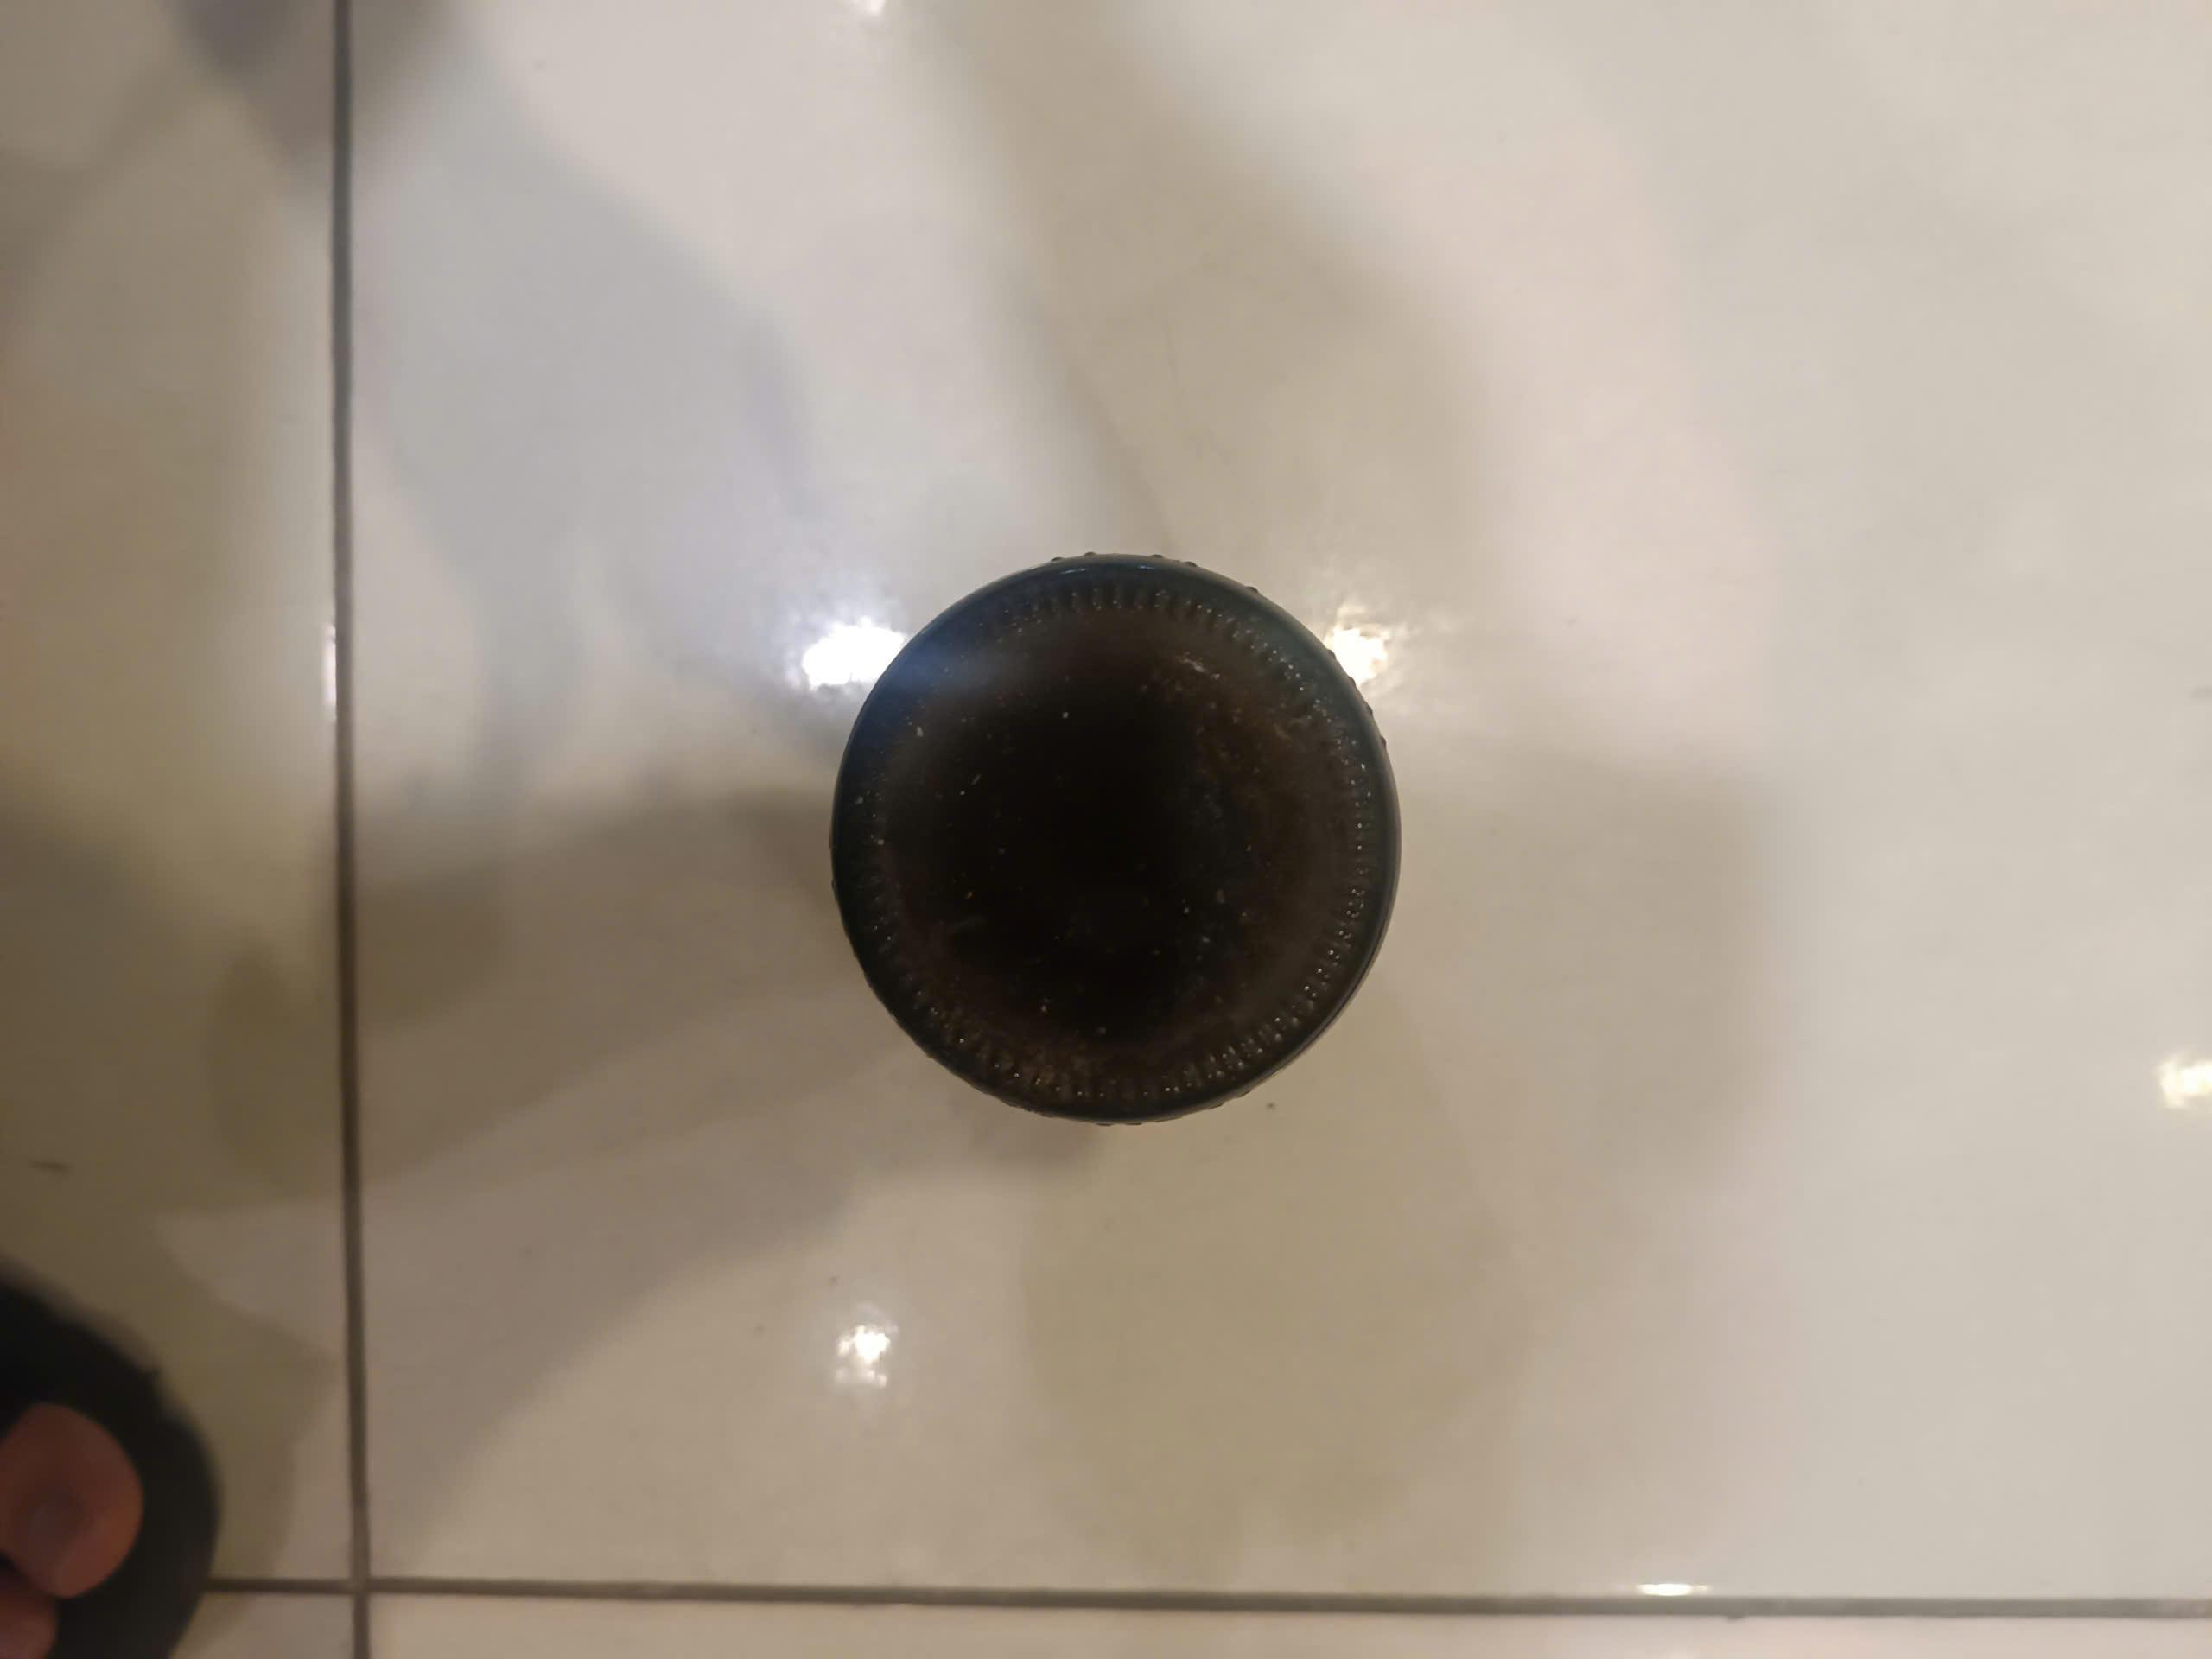Vo co: (833, 554, 1400, 1133)
